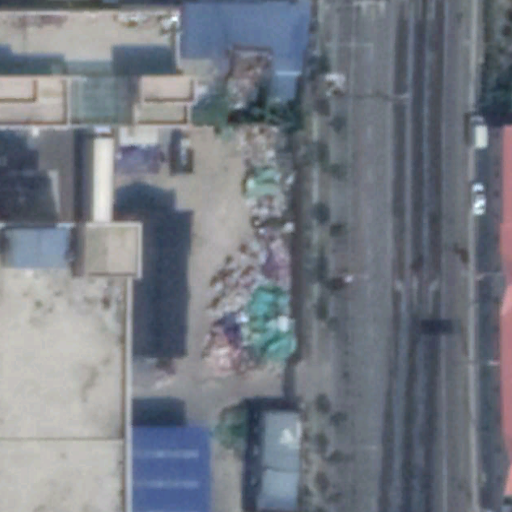msw: (202, 128, 304, 374)
